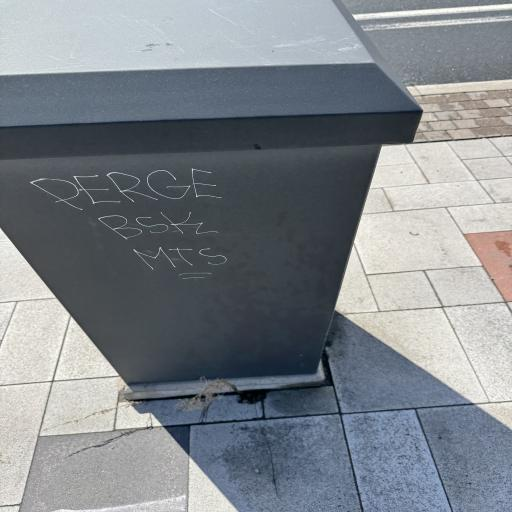Electrical Box: (0, 0, 421, 385)
